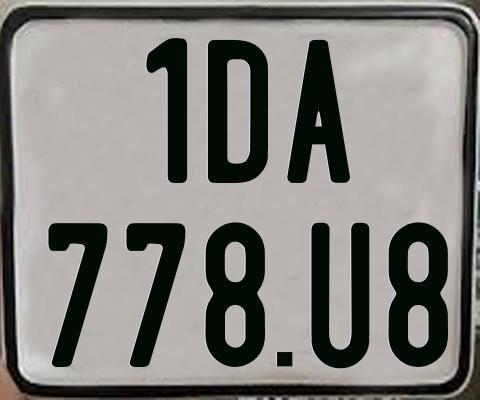1: (144, 38, 188, 185)
7: (48, 221, 113, 367), (123, 223, 184, 370)
8: (202, 219, 268, 369), (388, 220, 449, 368)
A: (284, 40, 349, 183)
D: (205, 40, 265, 188)
U: (310, 221, 373, 371)
